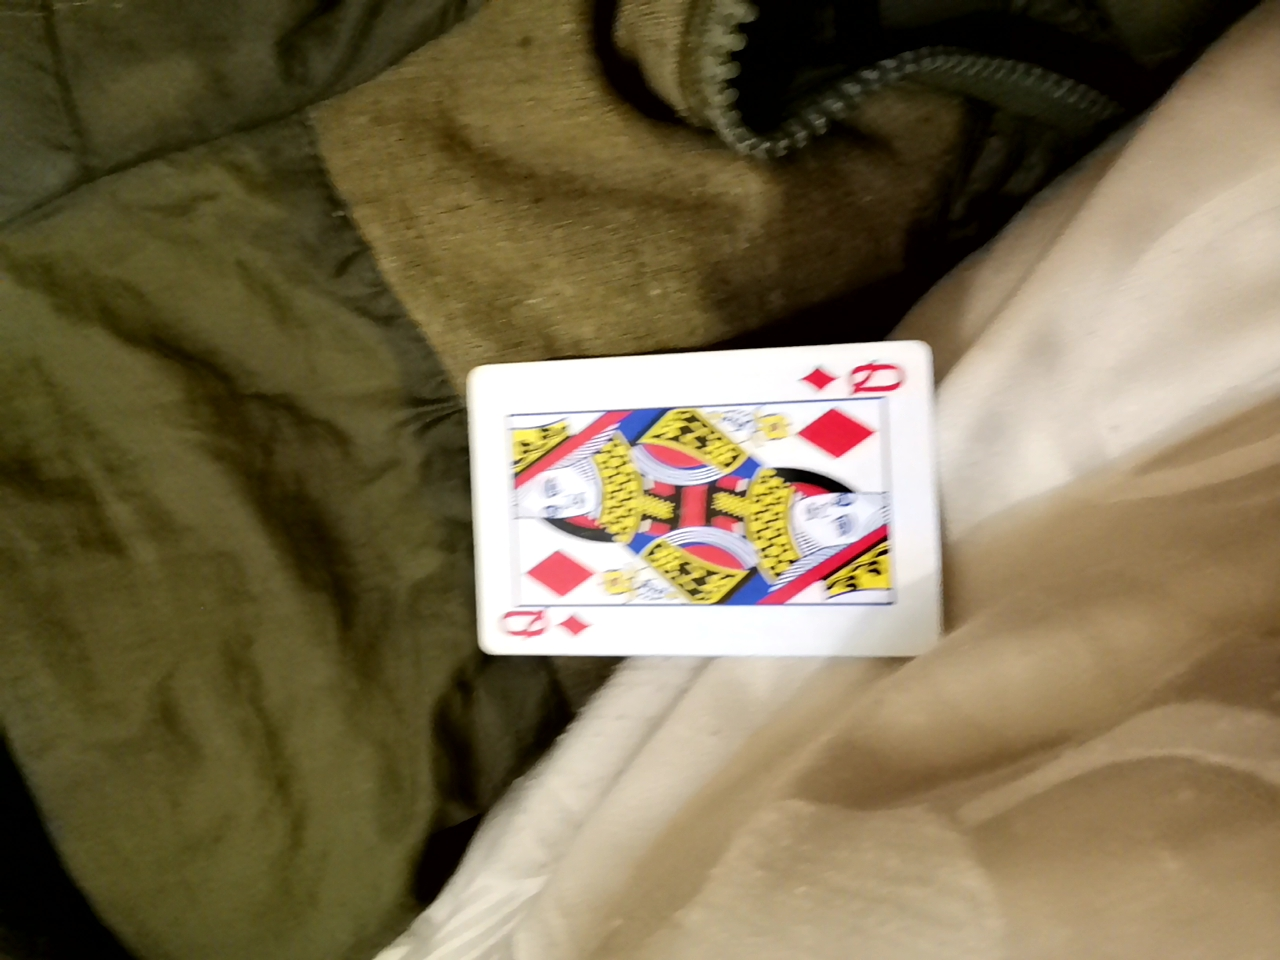fk q: (390, 361, 872, 677)
